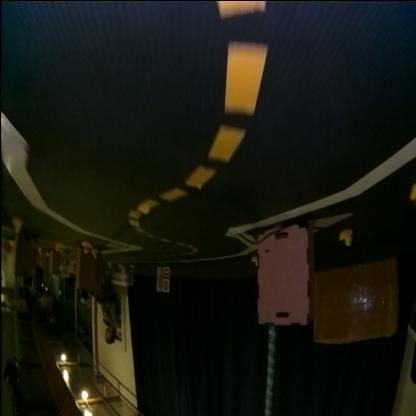Duckie: (340, 232, 352, 246), (81, 240, 91, 252), (410, 182, 414, 204), (92, 248, 98, 258), (252, 258, 258, 266)
QR code: (164, 270, 170, 278)
Stop sign: (164, 282, 168, 290)
